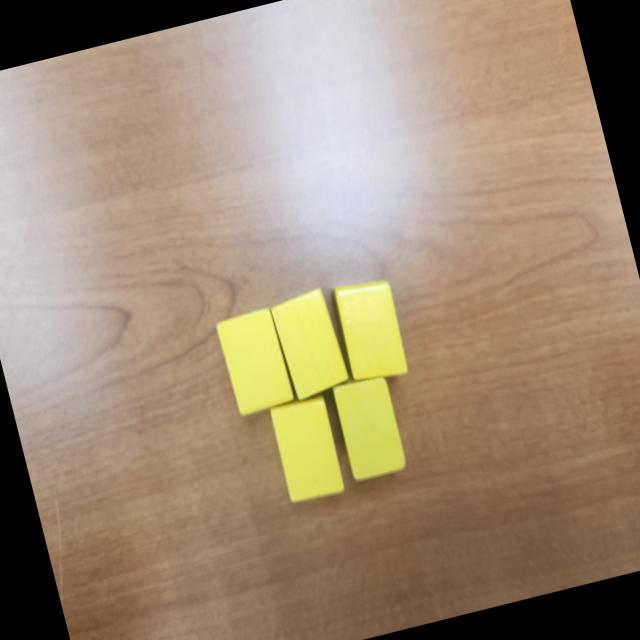yellow: (266, 392, 349, 506), (268, 286, 350, 401), (328, 275, 412, 387), (214, 306, 297, 418), (330, 372, 410, 482)
